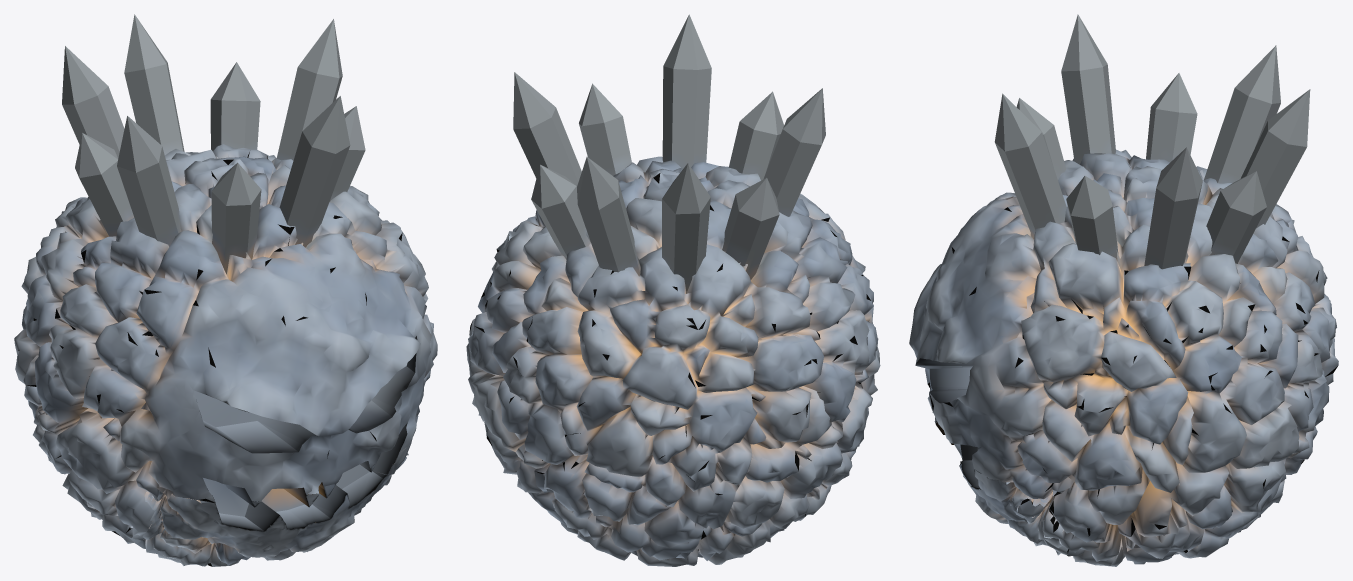
Rendered from RoyalComet.fbx.
3 views of the same model, side by side, from view 1: azimuth 30°, elevation 25°; view 2: azimuth 150°, elevation 25°; view 3: azimuth 270°, elevation 25° (orthographic). The views are drawn at different scales.
Visible parts, largest first — view 1: Body, Jaw; view 2: Body; view 3: Body, Jaw.
Part boxes in pixels (bbox=[...]): Body: bbox=[14, 14, 437, 566]; Jaw: bbox=[130, 439, 412, 566]; Body: bbox=[466, 14, 880, 566]; Body: bbox=[909, 14, 1338, 566]; Jaw: bbox=[934, 417, 1068, 555].
Size of the model in its own units: 1.01 by 1.28 by 1.04.
2 materials, 2 textured.
